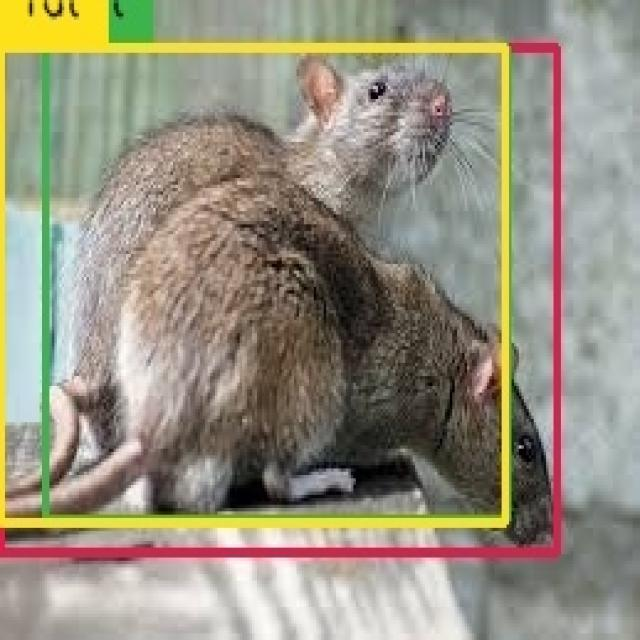rat: (0, 47, 558, 552), (2, 48, 506, 523), (45, 46, 509, 518)
